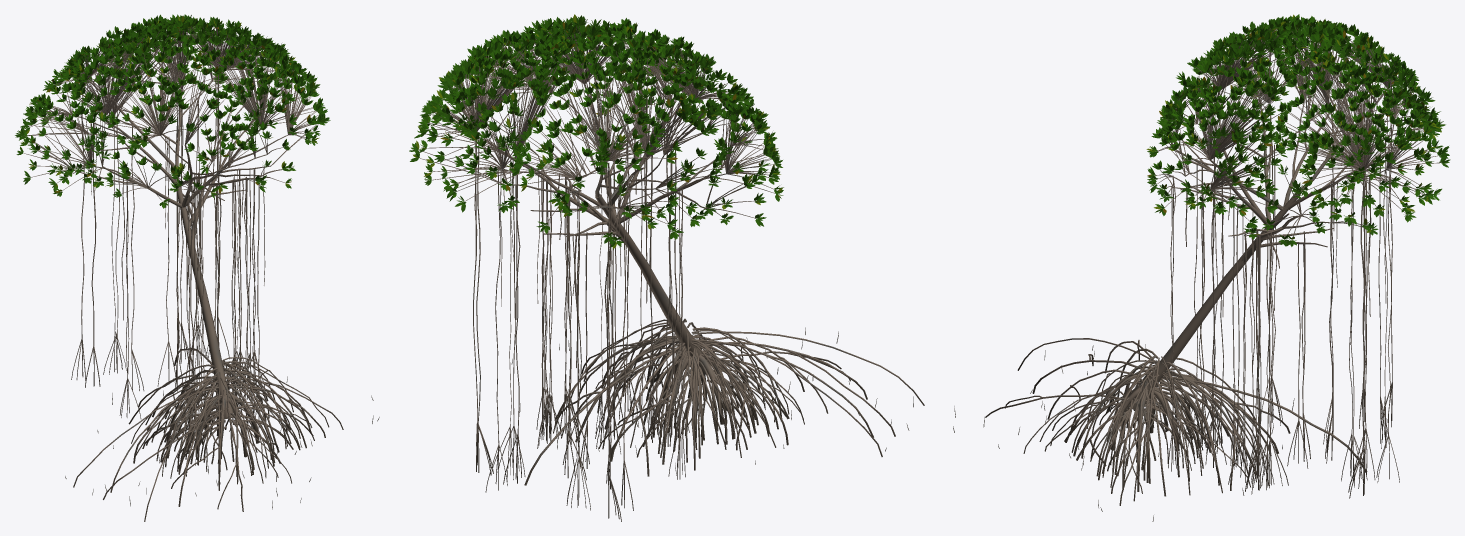
The model's file is RedMangrove_11_CanopyLeanB.fbx.
3 views of the same model, side by side, from view 1: azimuth 30°, elevation 25°; view 2: azimuth 150°, elevation 25°; view 3: azimuth 270°, elevation 25° (orthographic). The views are drawn at different scales.
Parts seen in each view (by area): view 1: RedMangrove_11_CanopyLeanB_LOD0; view 2: RedMangrove_11_CanopyLeanB_LOD0; view 3: RedMangrove_11_CanopyLeanB_LOD0.
Boxes of the visible parts, bbox=[...] form: RedMangrove_11_CanopyLeanB_LOD0: bbox=[15, 14, 379, 521]; RedMangrove_11_CanopyLeanB_LOD0: bbox=[409, 14, 924, 521]; RedMangrove_11_CanopyLeanB_LOD0: bbox=[953, 14, 1450, 521].
Size of what is drawn, in the model's own units: 8.77 by 9.63 by 10.36.
